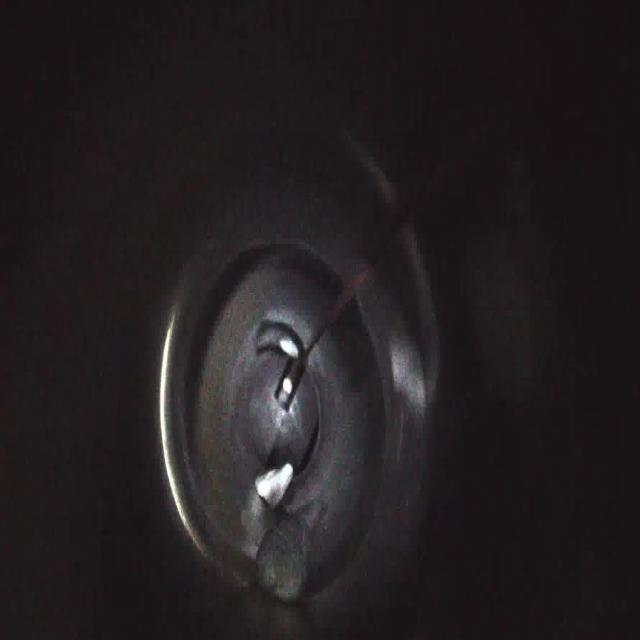impurity: (254, 512, 312, 600), (251, 456, 298, 512)
